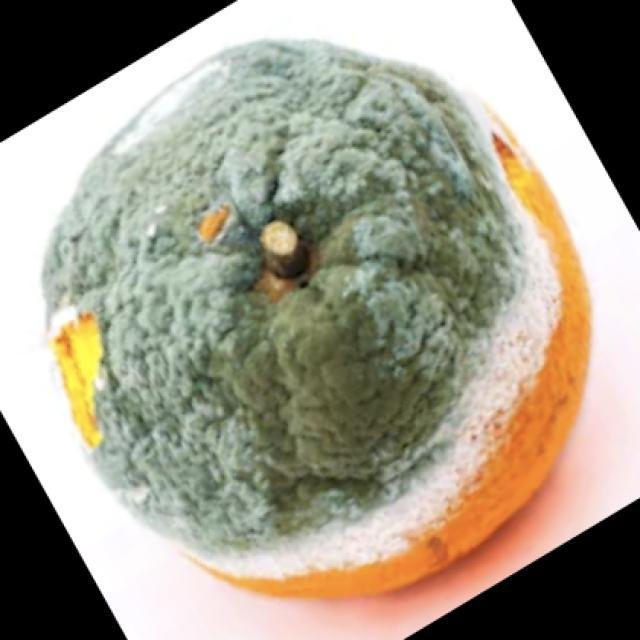sangat-busuk: (43, 40, 588, 594)
